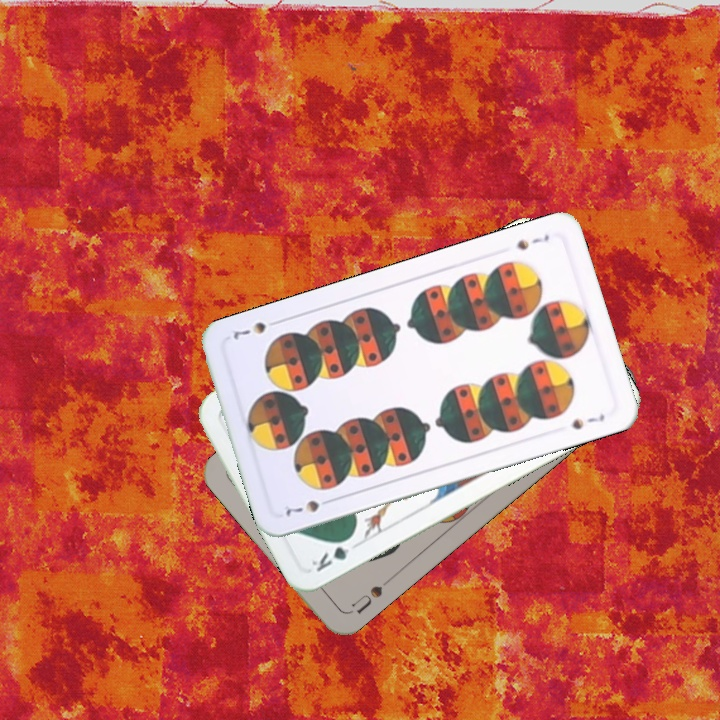GK: (307, 532, 362, 575)
S7: (281, 494, 336, 518), (513, 230, 552, 253)
SU: (345, 581, 386, 617)
